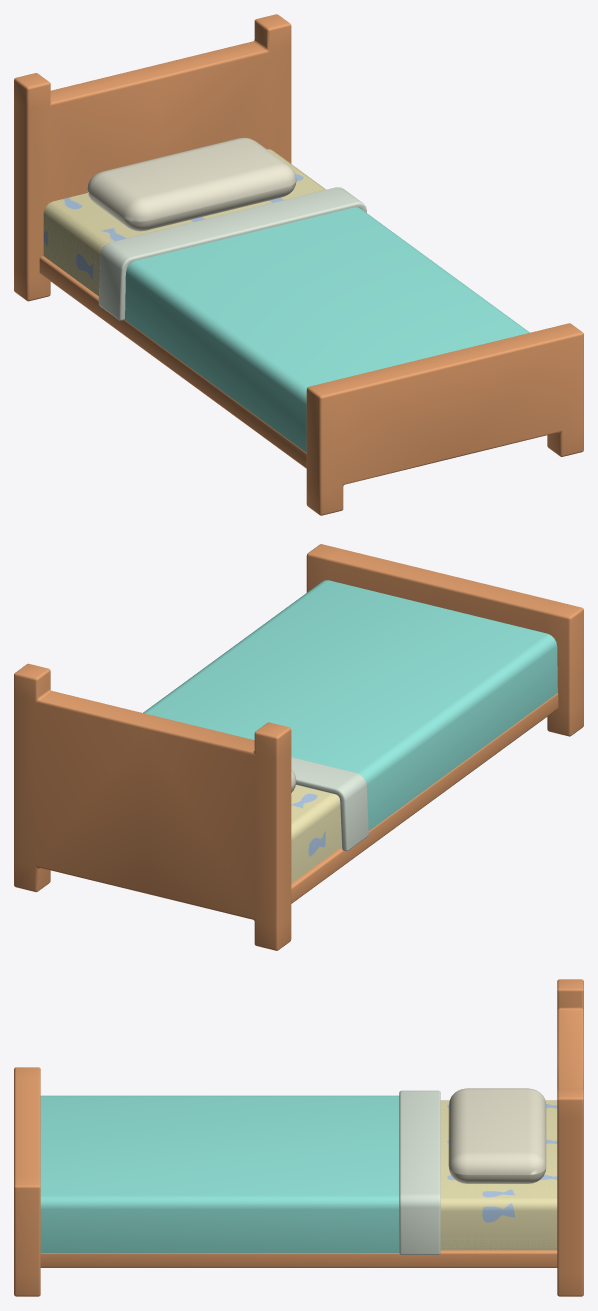
3 views of the same model, one above another, from view 1: azimuth 30°, elevation 25°; view 2: azimuth 150°, elevation 25°; view 3: azimuth 270°, elevation 25° (orthographic). The views are drawn at different scales.
Parts seen in each view (by area): view 1: BedFrame, Blanket, Pillow, Blanket.001, Mattress; view 2: BedFrame, Blanket, Mattress, Blanket.001; view 3: Blanket, BedFrame, Mattress, Pillow, Blanket.001.
Part boxes in pixels (x1,y1,x2,y2): BedFrame: (14, 14, 583, 515); Blanket: (124, 207, 529, 452); Pillow: (87, 137, 296, 231); Blanket.001: (98, 187, 366, 320); Mattress: (43, 149, 325, 296); BedFrame: (14, 544, 583, 950); Blanket: (143, 580, 557, 830); Mattress: (291, 785, 341, 883); Blanket.001: (291, 757, 368, 851); Blanket: (40, 1095, 399, 1252); BedFrame: (14, 979, 583, 1296); Mattress: (440, 1100, 557, 1250); Pillow: (448, 1088, 546, 1183); Blanket.001: (399, 1090, 440, 1254).
Bounding box in the file's own units: 1.39 × 1.08 × 2.79.
Materials: 5 (1 with a texture image).
